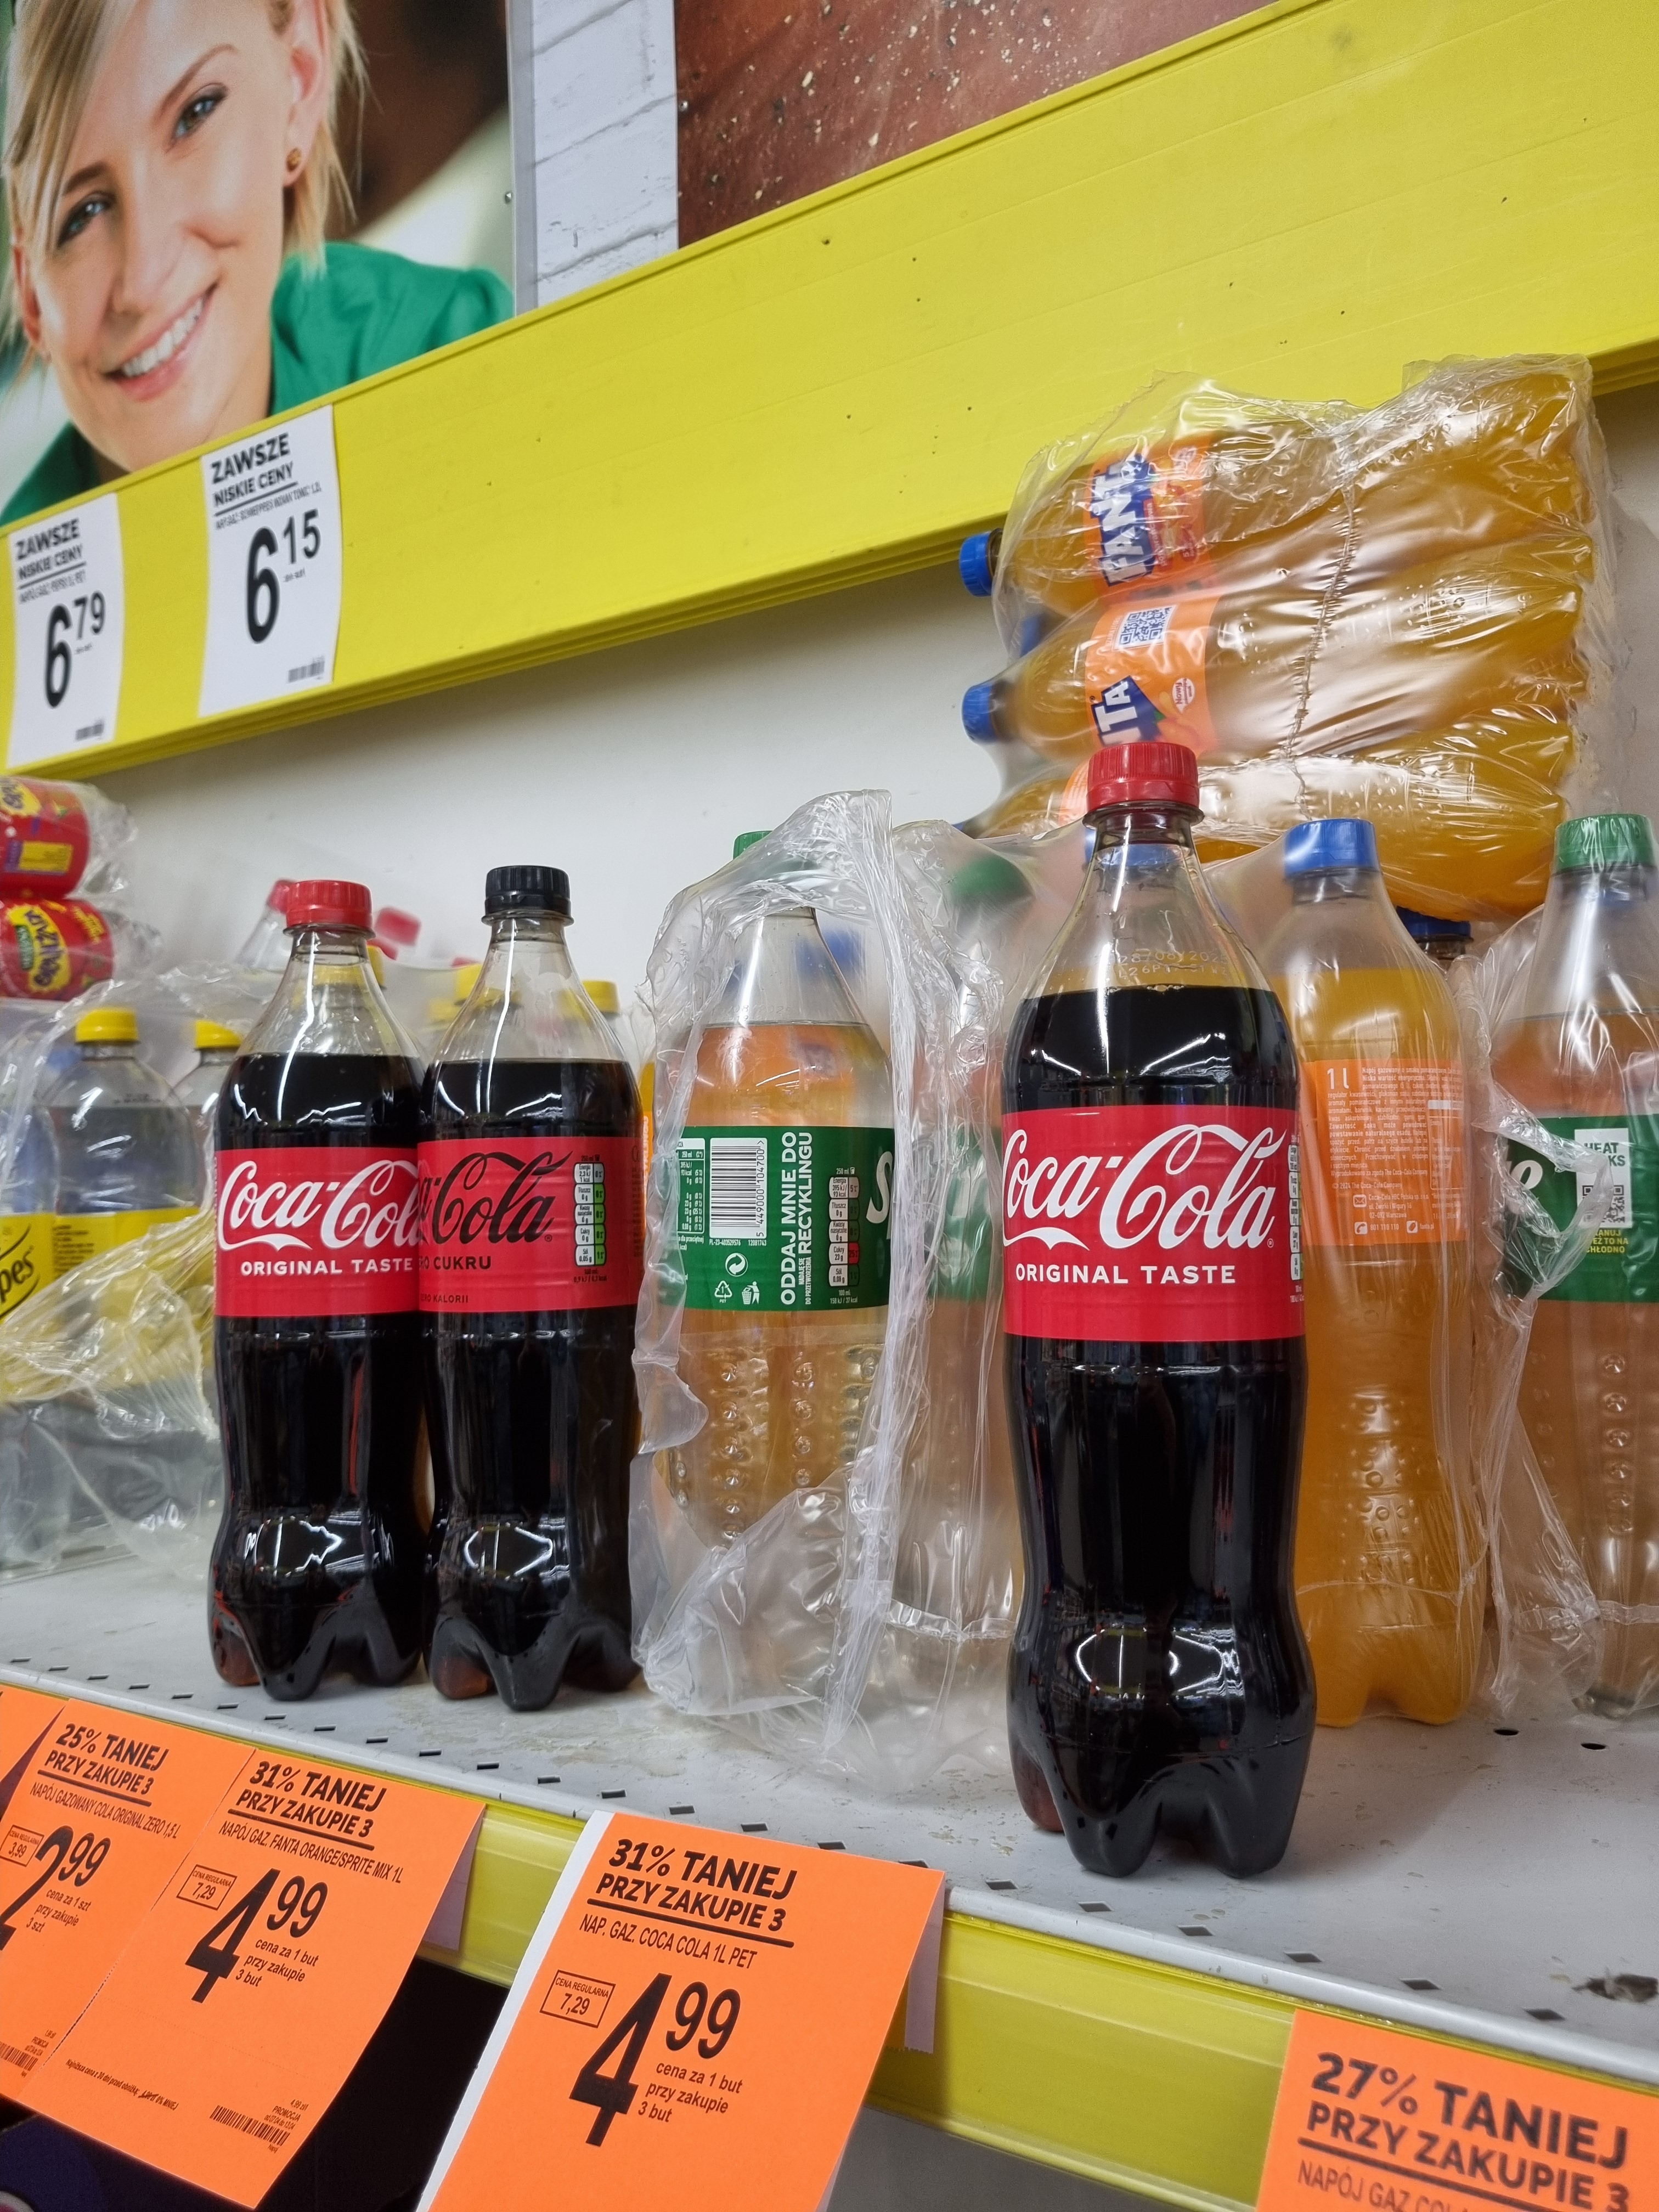Coca Cola: (993, 735, 1316, 1897), (413, 864, 647, 1721), (202, 876, 430, 1709)
